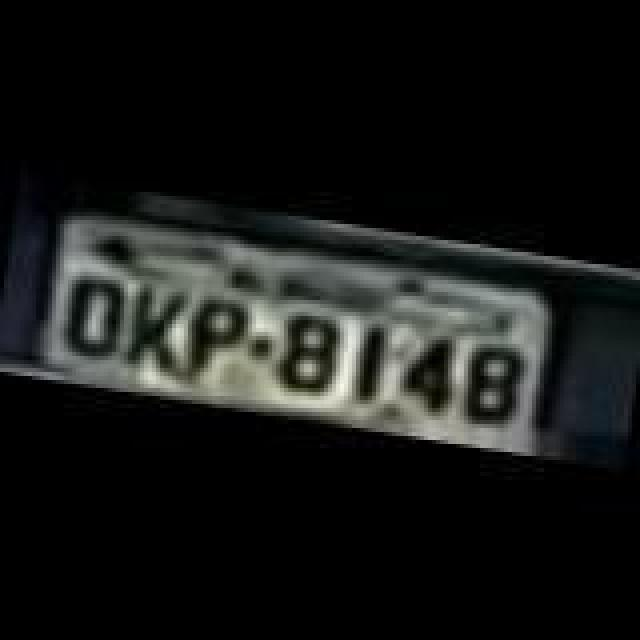1: (346, 316, 390, 404)
4: (394, 326, 470, 418)
8: (454, 338, 530, 430), (272, 308, 344, 396)
K: (114, 278, 190, 378)
O: (52, 266, 124, 358)
P: (178, 288, 254, 384)
